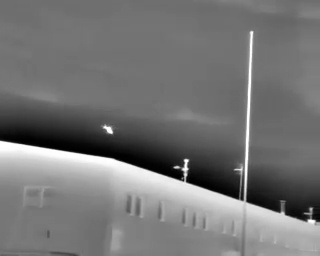HELICOPTER: (100, 121, 121, 139)
